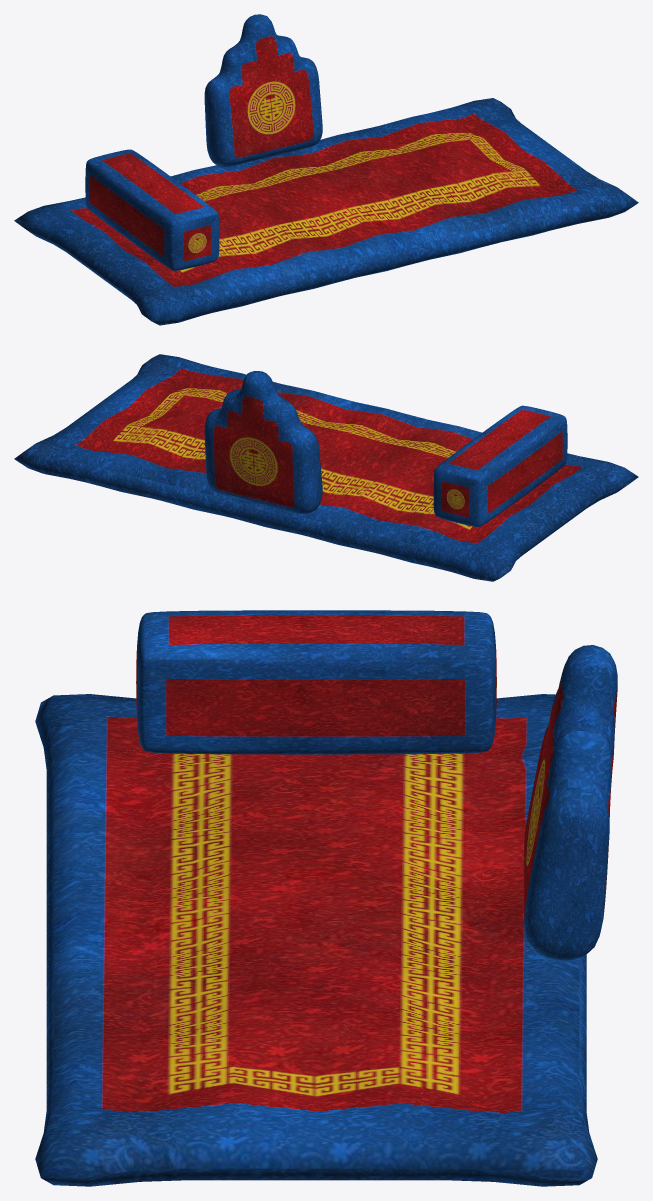
Rendered from Jangchim.fbx.
The picture shows the model from 3 angles, top to bottom: view 1: azimuth 30°, elevation 25°; view 2: azimuth 150°, elevation 25°; view 3: azimuth 270°, elevation 25°; orthographic projection. The views are drawn at different scales.
Visible parts, largest first — view 1: pCube1, pCube3, pCube2; view 2: pCube1, pCube3, pCube2; view 3: pCube1, pCube2, pCube3.
Boxes of the visible parts, <box> form: pCube1: <box>14,98,638,325</box>; pCube3: <box>204,14,322,166</box>; pCube2: <box>85,149,219,270</box>; pCube1: <box>14,354,638,581</box>; pCube3: <box>204,371,322,513</box>; pCube2: <box>433,405,567,526</box>; pCube1: <box>35,694,597,1186</box>; pCube2: <box>136,610,496,754</box>; pCube3: <box>524,645,617,960</box>.
Size of the model in its own units: 22.68 by 7.43 by 11.74.
Materials: 1 (1 with a texture image).
